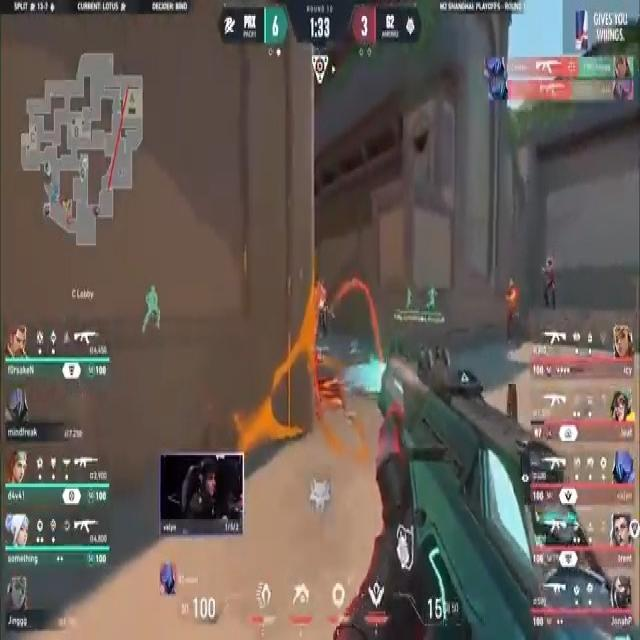enemy: (501, 276, 521, 344), (538, 251, 557, 311)
